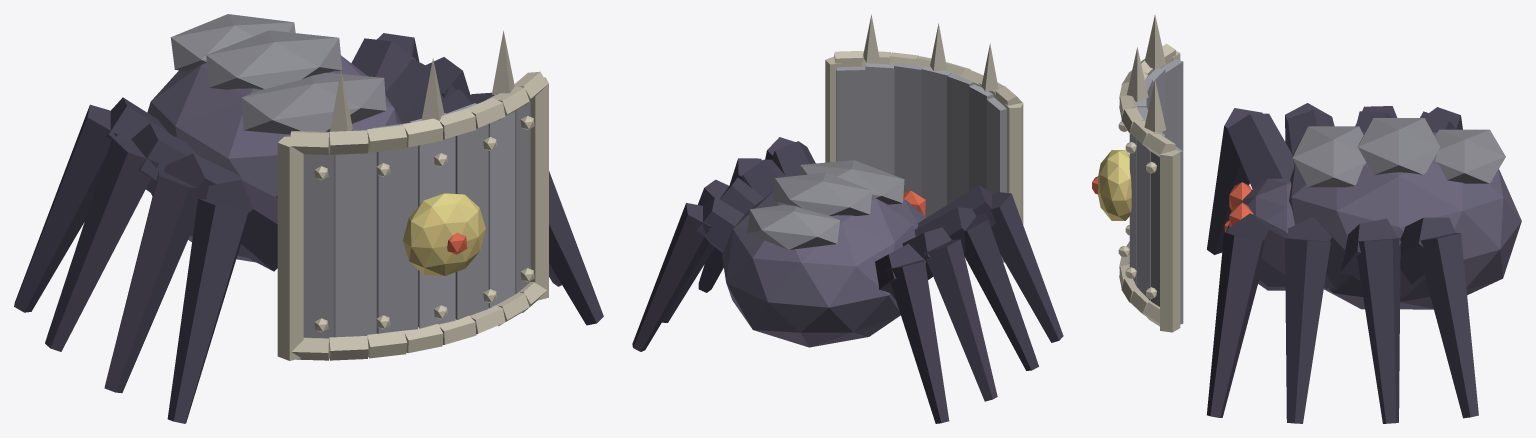
The model's file is enemy_bulwark.glb.
3 renders of one model, left to right at view 1: azimuth 30°, elevation 25°; view 2: azimuth 150°, elevation 25°; view 3: azimuth 270°, elevation 25°, orthographic. The views are drawn at different scales.
Visible parts, largest first — view 1: enemy_bulwark; view 2: enemy_bulwark; view 3: enemy_bulwark.
Part boxes in pixels (x1,y1,x2,y2): enemy_bulwark: (14, 14, 603, 423); enemy_bulwark: (632, 14, 1063, 423); enemy_bulwark: (1092, 14, 1521, 423).
Bounding box in the file's own units: 3.44 × 2.48 × 3.33.
